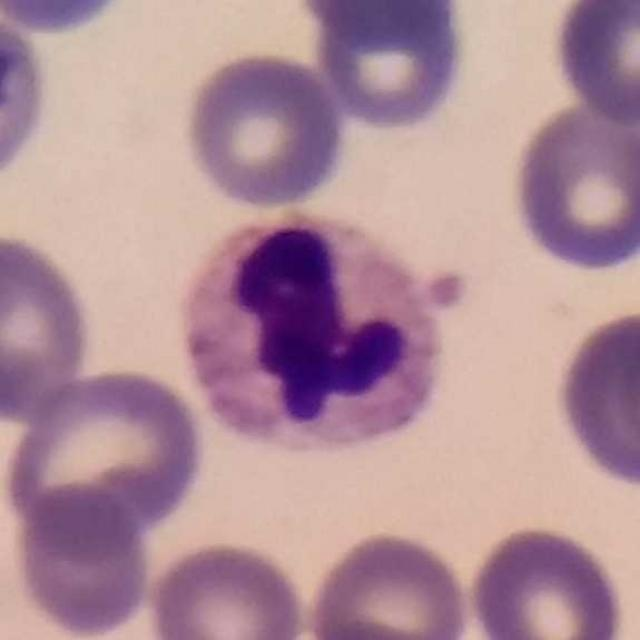Neutrophil: (168, 202, 459, 468)
Platelets: (422, 256, 479, 319)
RBC: (1, 364, 210, 553), (178, 46, 348, 214), (504, 94, 640, 277), (5, 485, 156, 639), (304, 1, 473, 135), (463, 520, 630, 640), (303, 525, 475, 640), (0, 225, 99, 424), (142, 535, 313, 640), (552, 311, 640, 500), (546, 0, 640, 129), (0, 15, 56, 196), (289, 0, 462, 43), (0, 0, 141, 38)
